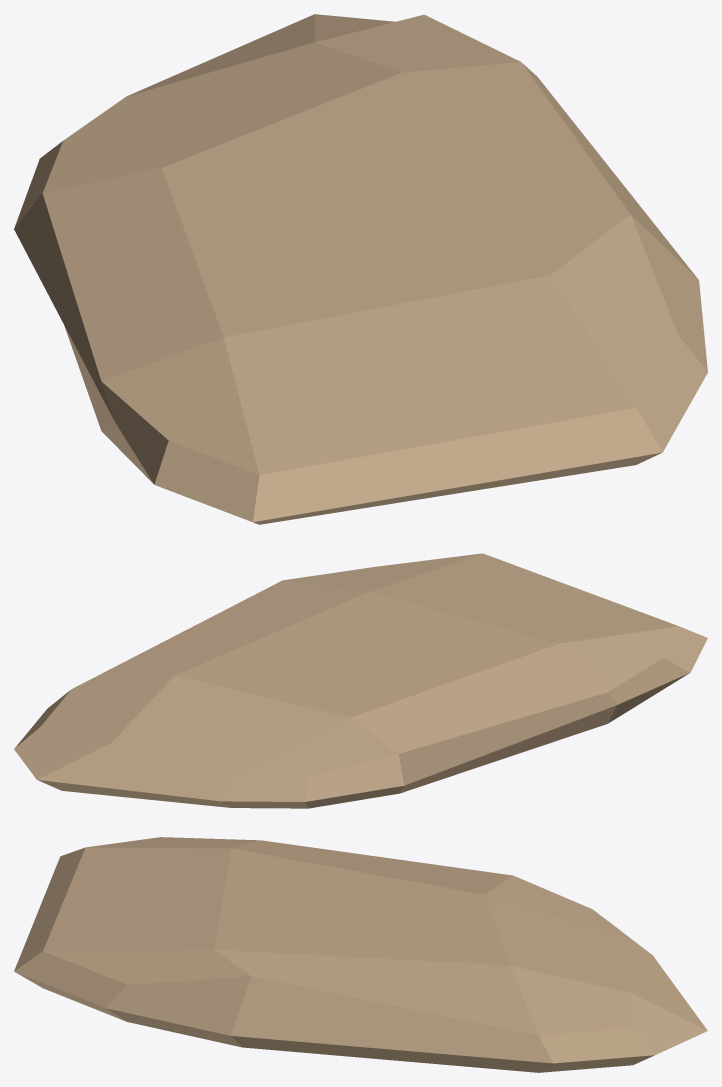
Rendered from rock_25.FBX.
The picture shows the model from 3 angles, top to bottom: view 1: azimuth 30°, elevation 25°; view 2: azimuth 150°, elevation 25°; view 3: azimuth 270°, elevation 25°; orthographic projection. The views are drawn at different scales.
Parts seen in each view (by area): view 1: rock_25; view 2: rock_25; view 3: rock_25.
Boxes of the visible parts, x1,y1,x2,y2 form: rock_25: (14, 14, 707, 524); rock_25: (14, 553, 707, 808); rock_25: (14, 837, 707, 1072).
Size of the model in its own units: 783 by 104 by 1038.
